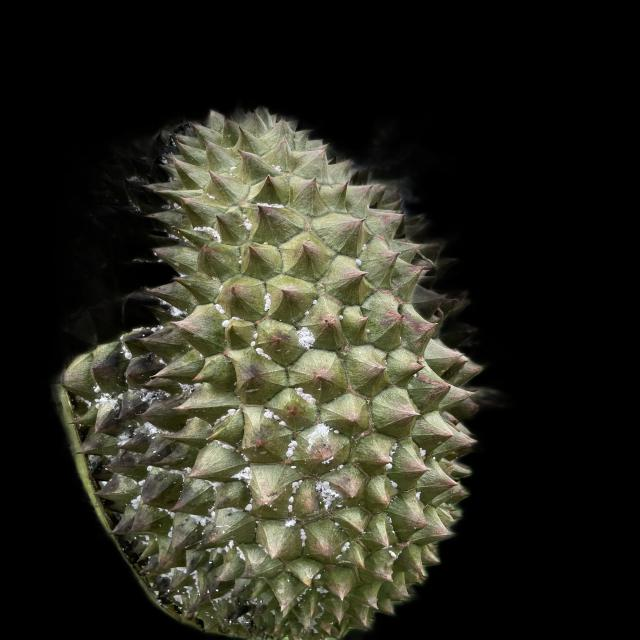immature: (44, 105, 488, 640)
